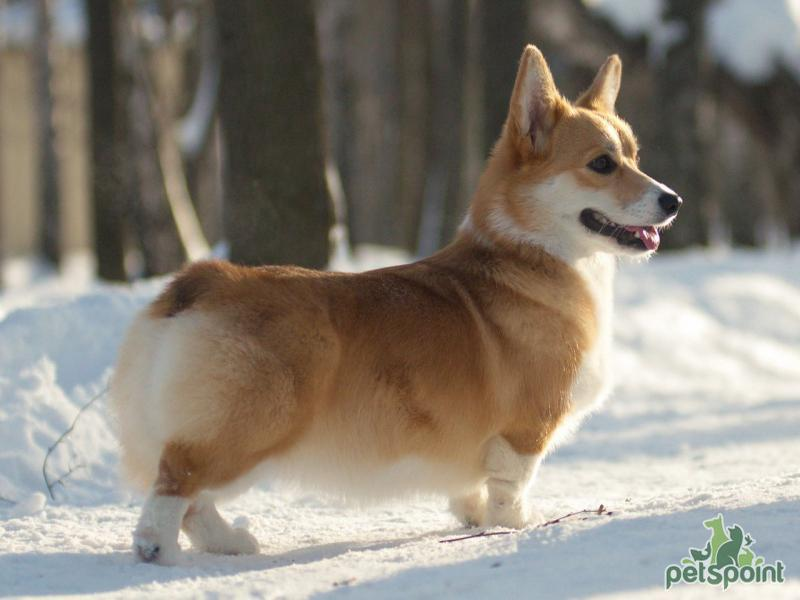corgi: (498, 43, 689, 269)
